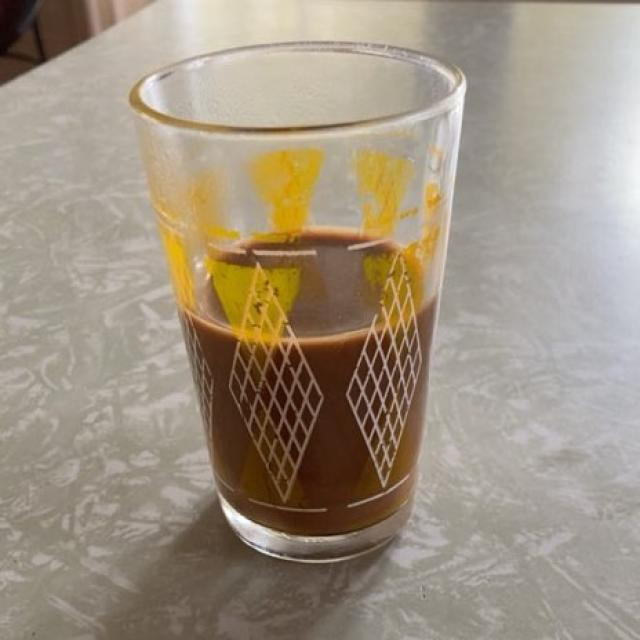coffee-with-caffeine: (192, 234, 427, 526)
